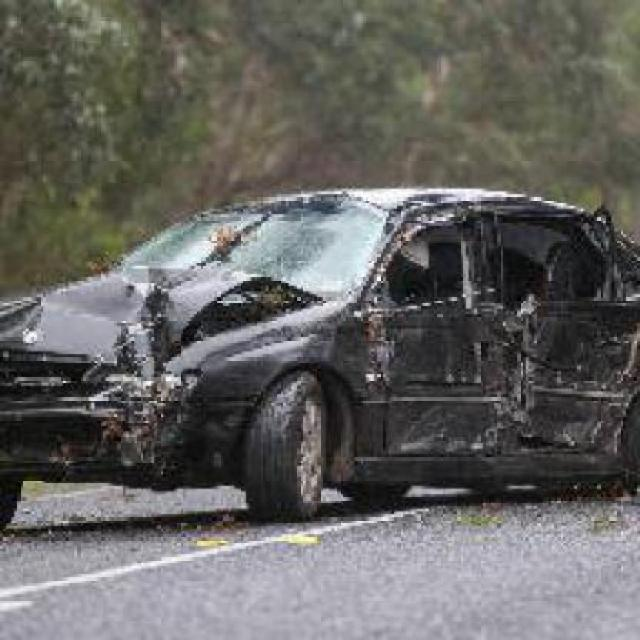damaged-door: (480, 202, 637, 458), (374, 208, 496, 466)
damaged-hood: (20, 273, 292, 358)
damaged-windscreen: (117, 205, 377, 292)
